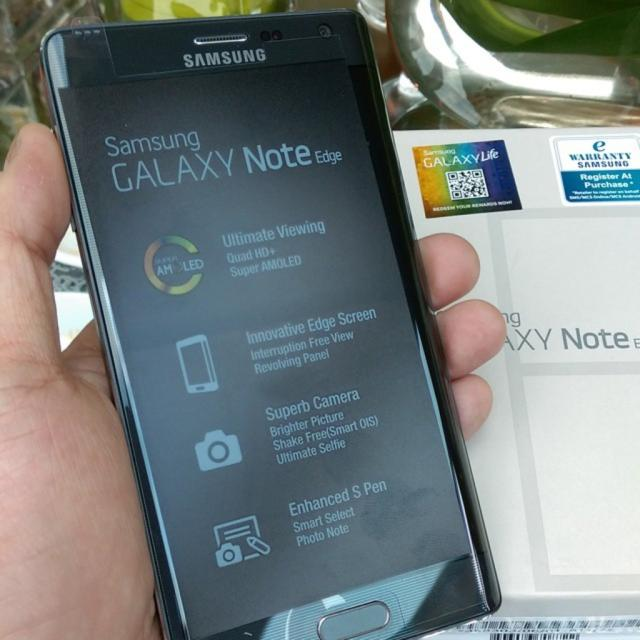Mobile-phone: (31, 0, 497, 626)
